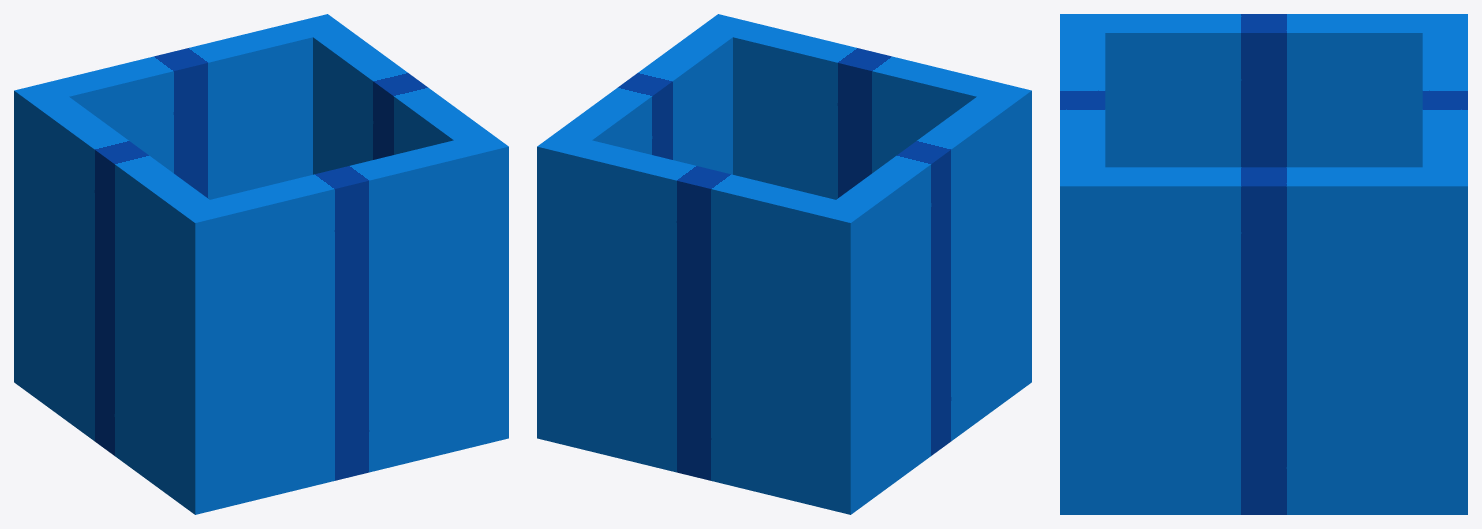
The model's file is conveyor.glb.
3 renders of one model, left to right at view 1: azimuth 30°, elevation 25°; view 2: azimuth 150°, elevation 25°; view 3: azimuth 270°, elevation 25°, orthographic. The views are drawn at different scales.
Visible parts, largest first — view 1: conveyor; view 2: conveyor; view 3: conveyor.
Boxes of the visible parts, box(x1,y1,x2,y2) form: conveyor: box(14, 14, 508, 514); conveyor: box(537, 14, 1031, 514); conveyor: box(1060, 14, 1467, 514).
Bounding box in the file's own units: 1.13 × 1 × 1.12.
1 material, 1 textured.
